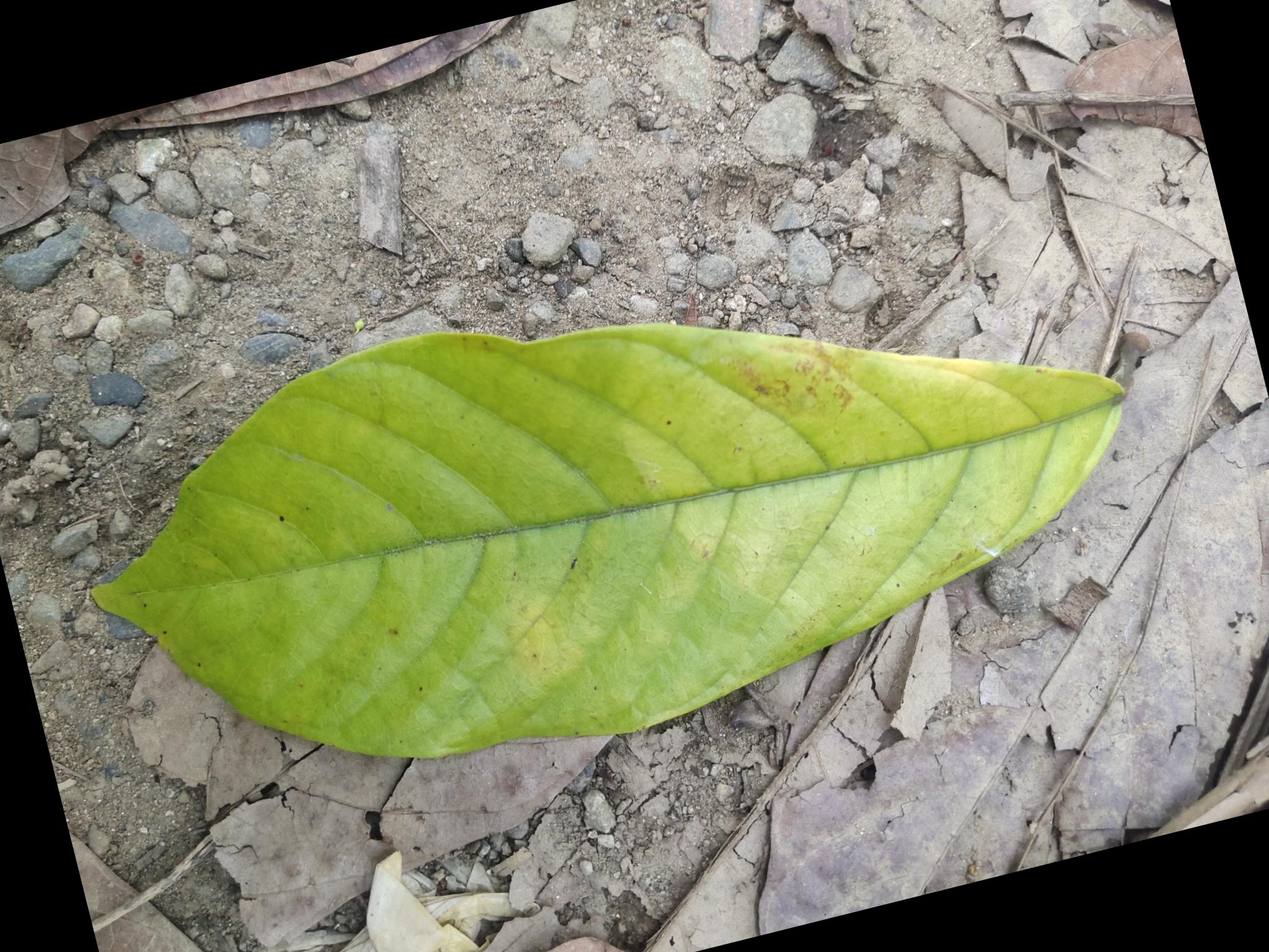Fosforo: (92, 329, 1118, 758)
